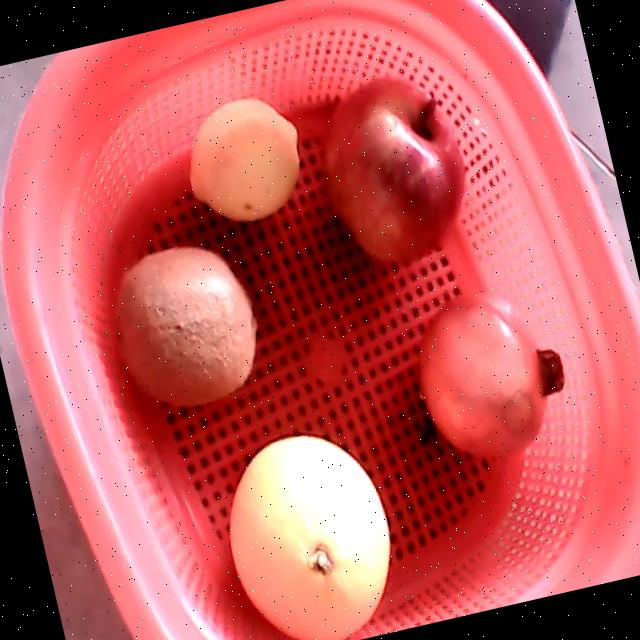apple: (329, 77, 467, 264)
kiwi: (113, 246, 257, 409)
lemon: (189, 98, 301, 223)
orange: (230, 434, 391, 640)
pomegranate: (413, 287, 566, 460)
